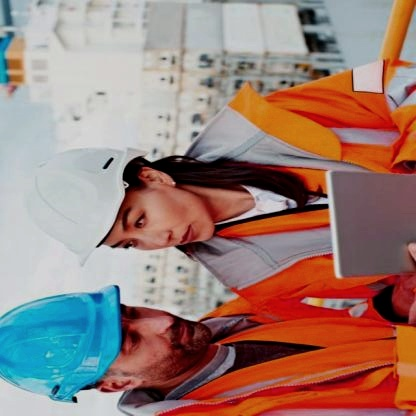vest: (179, 61, 415, 304), (151, 262, 413, 416)
white: (19, 143, 143, 268)
